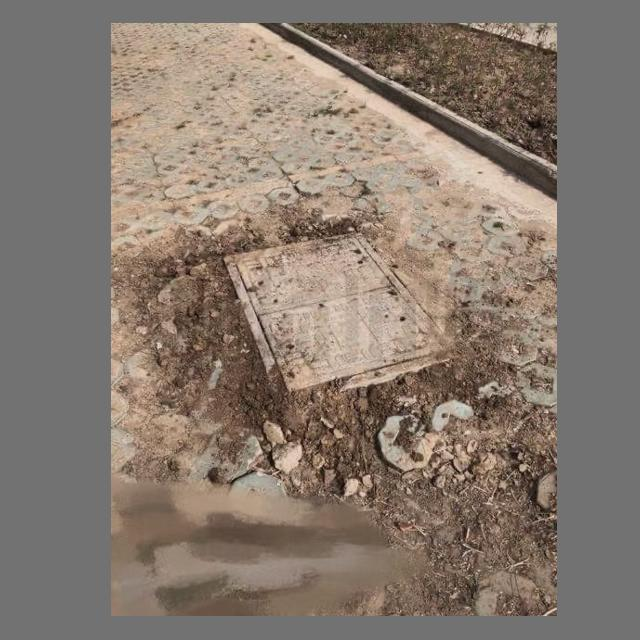circle: (202, 227, 475, 422)
